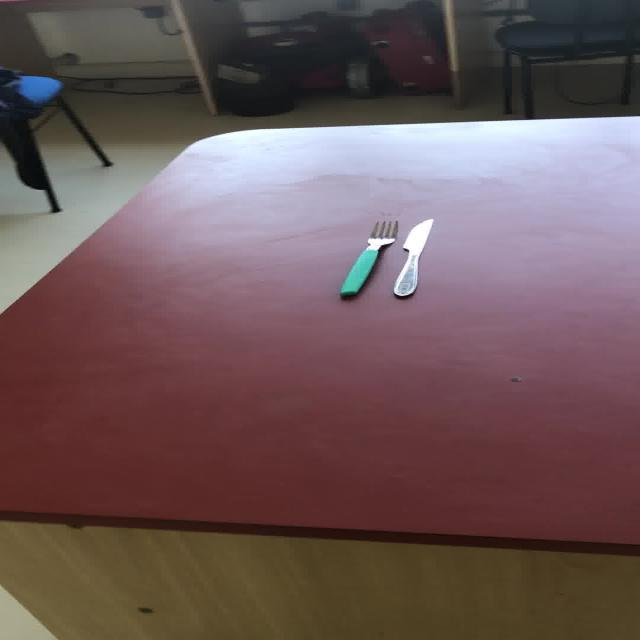fork: (338, 219, 398, 297)
knife fork: (392, 217, 433, 296)
